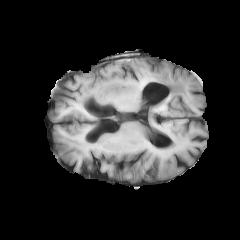glioma: (80, 56, 186, 101)
